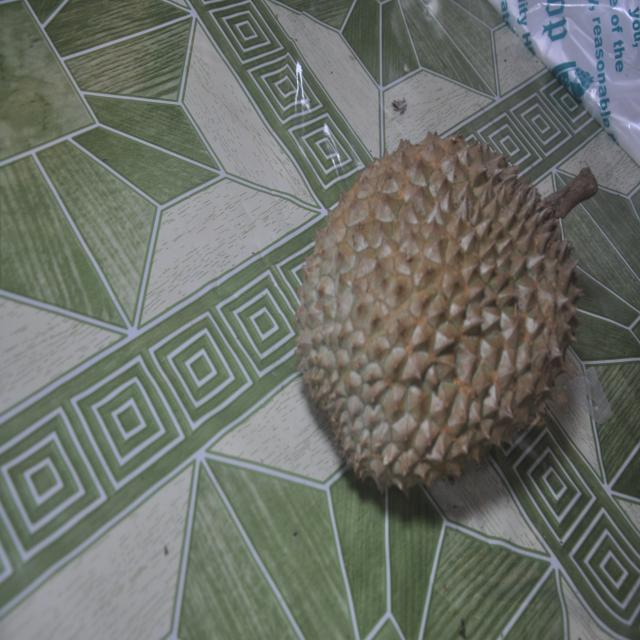mature: (297, 134, 580, 493)
